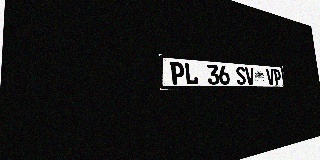plate: (159, 54, 285, 90)
